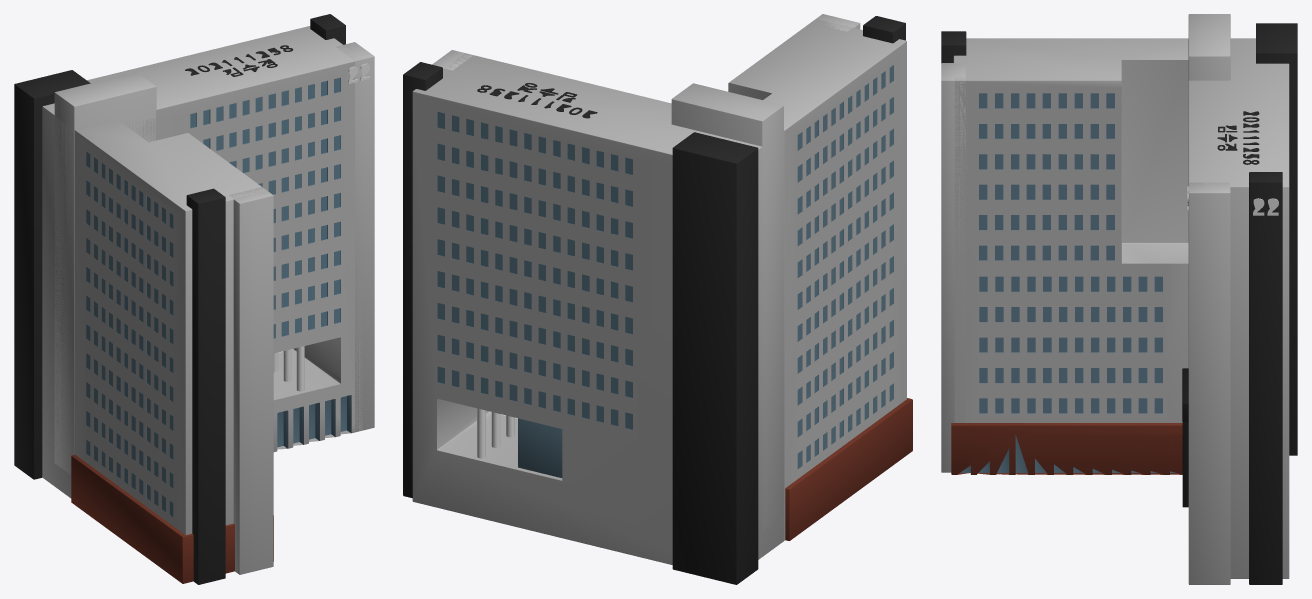
Rendered from 신공학관수정.fbx.
3 renders of one model, left to right at view 1: azimuth 30°, elevation 25°; view 2: azimuth 150°, elevation 25°; view 3: azimuth 270°, elevation 25°, orthographic. The views are drawn at different scales.
Parts seen in each view (by area): view 1: 부울, 부울_2, 흰색큐브_2, 회색큐브_2, 회색큐브_교집합, 흰색큐브_교집합, 흰색큐브, 부울_3, 클로너, 회색큐브; view 2: 부울, 부울_2, 회색큐브_교집합, 흰색큐브_교집합, 부울_3, 회색큐브, 유리큐브, 클로너, 회색큐브_2; view 3: 부울_2, 부울, 흰색큐브, 회색큐브, 부울_3, 흰색큐브_2, 회색큐브_교집합, 흰색큐브_교집합, 회색큐브_2, 정문아래, 텍스트_스플라인.
Boxes of the visible parts, x1,y1,x2,y2 form: 부울: (42, 26, 362, 498); 부울_2: (74, 119, 266, 535); 흰색큐브_2: (229, 187, 273, 574); 회색큐브_2: (186, 188, 225, 584); 회색큐브_교집합: (14, 70, 90, 479); 흰색큐브_교집합: (54, 72, 156, 474); 흰색큐브: (336, 42, 374, 431); 부울_3: (71, 454, 273, 583); 클로너: (273, 346, 304, 391); 회색큐브: (310, 14, 345, 44); 부울: (412, 53, 783, 564); 부울_2: (728, 19, 906, 540); 회색큐브_교집합: (672, 132, 758, 584); 흰색큐브_교집합: (671, 83, 783, 530); 부울_3: (785, 398, 912, 540); 회색큐브: (403, 62, 442, 498); 유리큐브: (518, 418, 562, 477); 클로너: (477, 408, 514, 458); 회색큐브_2: (863, 16, 905, 43); 부울_2: (953, 38, 1188, 422); 부울: (1188, 38, 1289, 578); 흰색큐브: (1188, 182, 1230, 584); 회색큐브: (1249, 172, 1282, 584); 부울_3: (951, 423, 1182, 474); 흰색큐브_2: (941, 63, 965, 472); 회색큐브_교집합: (1256, 23, 1297, 455); 흰색큐브_교집합: (1188, 14, 1230, 80); 회색큐브_2: (941, 31, 966, 63); 정문아래: (1182, 422, 1188, 507); 텍스트_스플라인: (1243, 111, 1259, 164).
Bounding box in the file's own units: 451 × 548 × 425.
